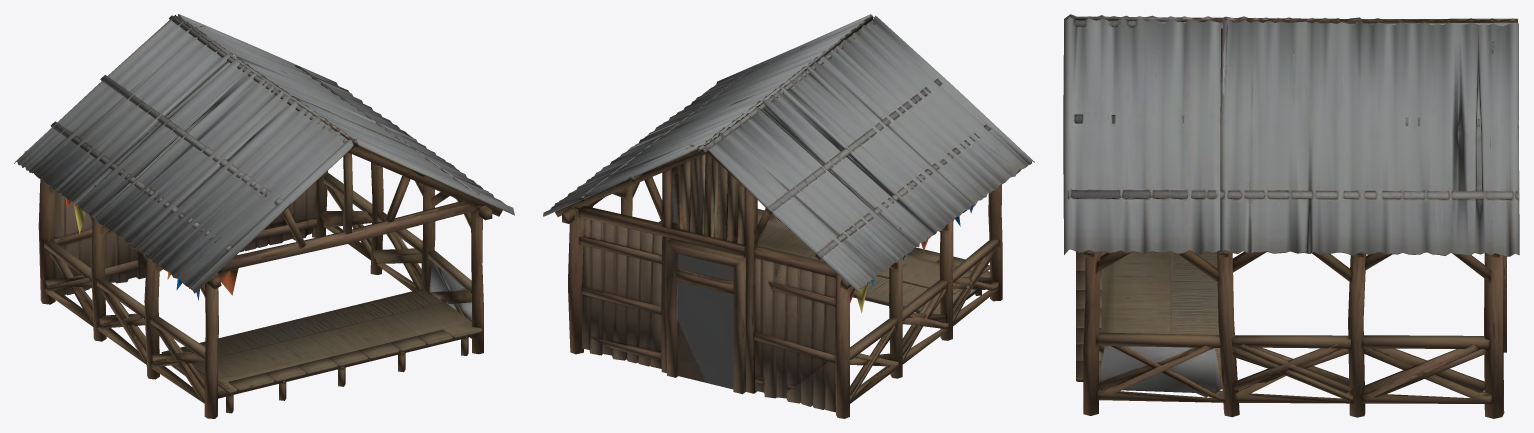
Rendered from galpao_festival.glb.
The picture shows the model from 3 angles, left to right: view 1: azimuth 30°, elevation 25°; view 2: azimuth 150°, elevation 25°; view 3: azimuth 270°, elevation 25°; orthographic projection. The views are drawn at different scales.
Visible parts, largest first — view 1: Galpão de festival; view 2: Galpão de festival; view 3: Galpão de festival.
Part boxes in pixels (left/top/right/bottom): Galpão de festival: left=14, top=14, right=514, bottom=418; Galpão de festival: left=543, top=14, right=1034, bottom=418; Galpão de festival: left=1063, top=14, right=1519, bottom=418.
Size of the model in its own units: 0.998 by 0.7441 by 0.9707.
Materials: 1 (1 with a texture image).
